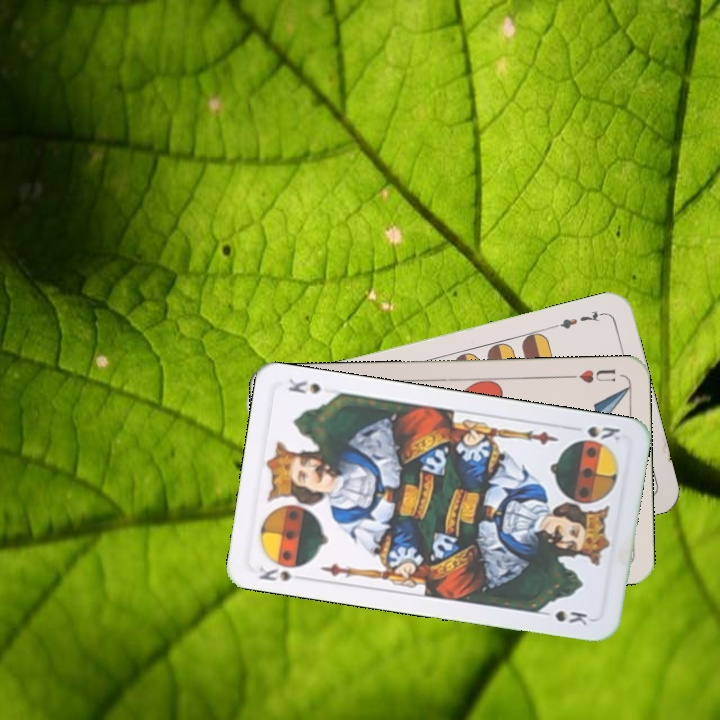E7: (549, 306, 607, 332)
HU: (565, 365, 619, 386)
SK: (254, 562, 309, 584), (583, 422, 623, 444)
